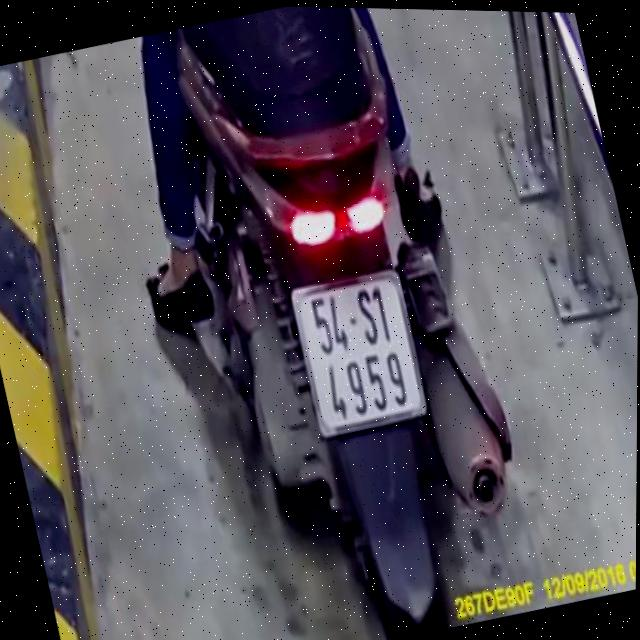motorcycle: (150, 3, 553, 640)
plate: (282, 258, 436, 445)
